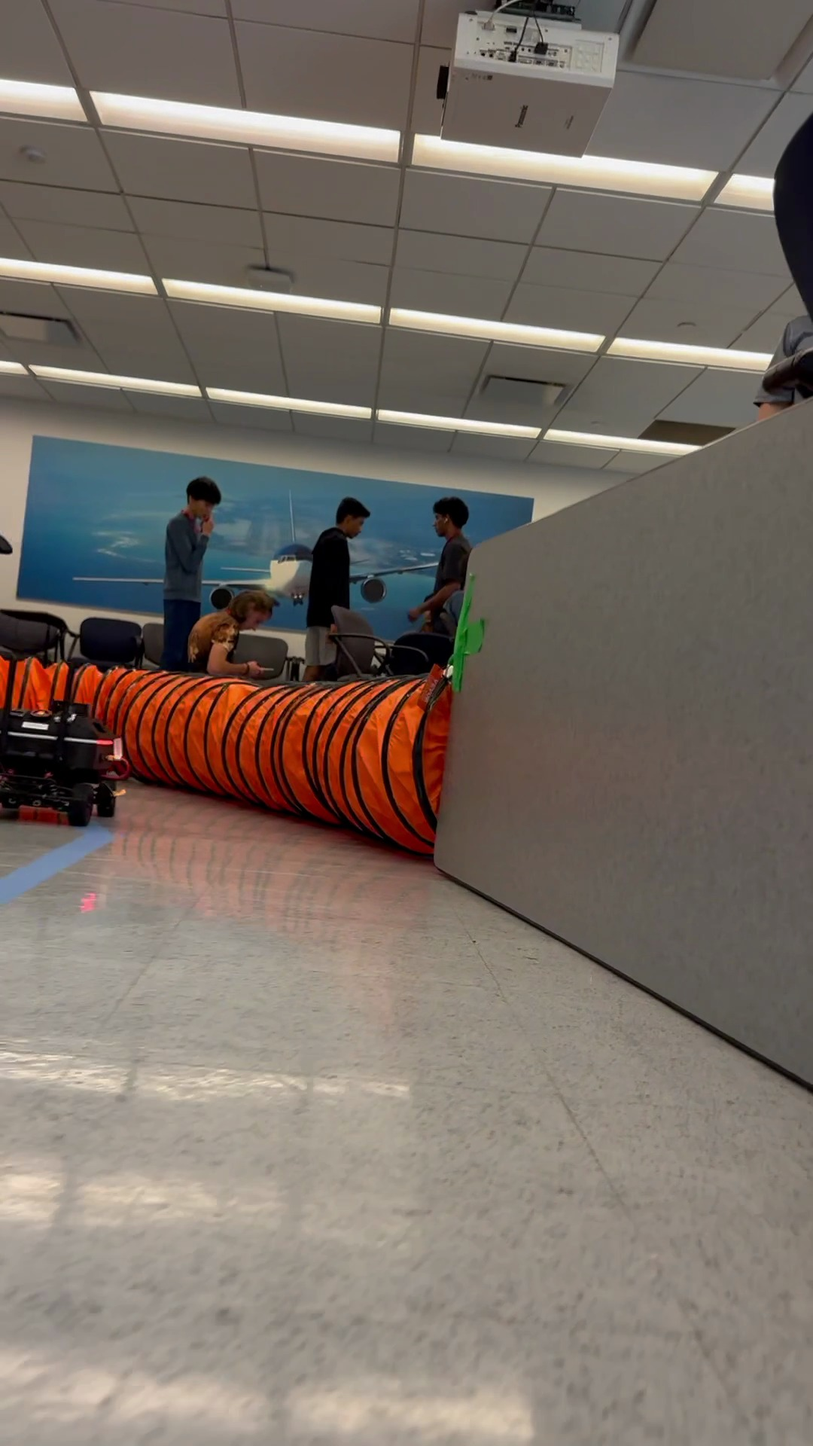racecar: (1, 685, 123, 826)
